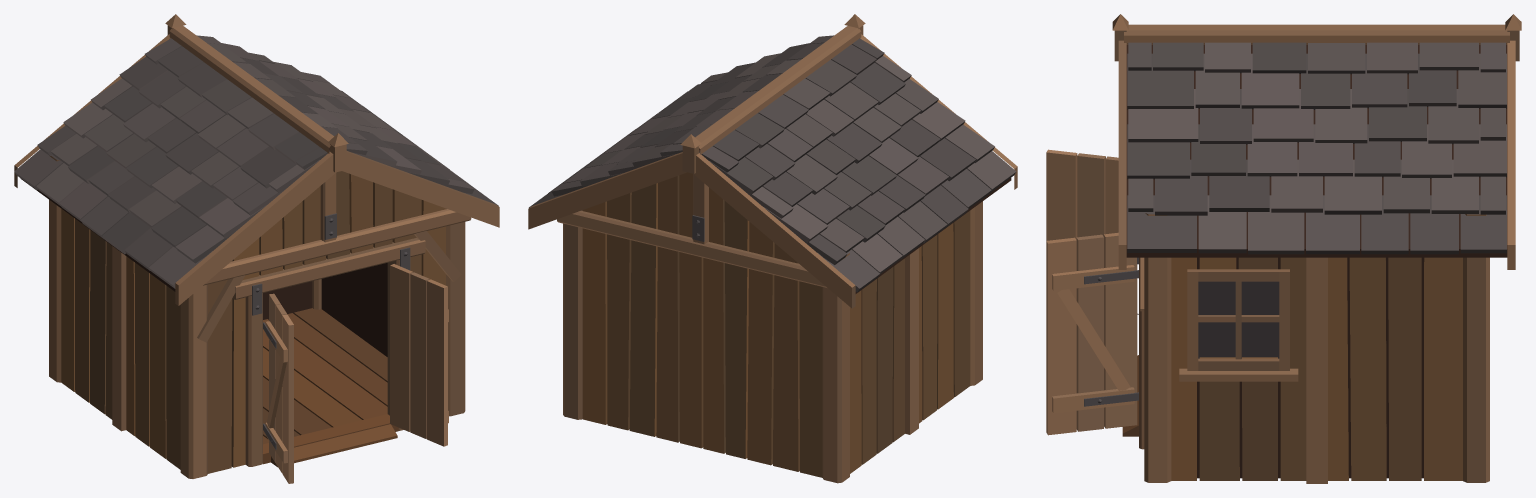
File: mine-shack-fce075.glb
The picture shows the model from 3 angles, left to right: view 1: azimuth 30°, elevation 25°; view 2: azimuth 150°, elevation 25°; view 3: azimuth 270°, elevation 25°; orthographic projection. The views are drawn at different scales.
Parts seen in each view (by area): view 1: shack, door-right-planks, door-left-planks, shack-iron; view 2: shack; view 3: shack, door-right-planks, door-left-planks, shack-glass, door-right-iron.
Part boxes in pixels (x1,y1,x2,y2): shack: [14, 14, 499, 478]; door-right-planks: [390, 264, 448, 446]; door-left-planks: [265, 293, 293, 483]; shack-iron: [252, 213, 410, 315]; shack: [528, 14, 1017, 483]; shack: [1112, 14, 1521, 483]; door-right-planks: [1046, 232, 1137, 435]; door-left-planks: [1046, 149, 1118, 240]; shack-glass: [1198, 281, 1279, 358]; door-right-iron: [1084, 270, 1138, 406].
Size of the model in its own units: 3.4 by 3.16 by 3.52.
